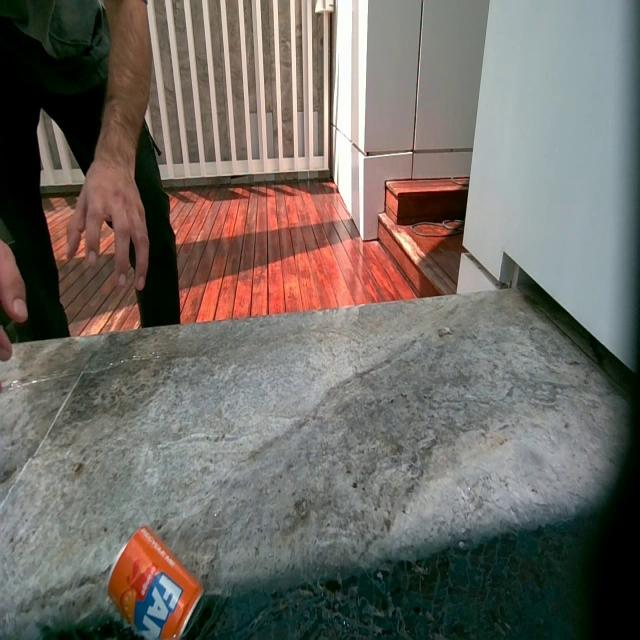Cans: (104, 525, 202, 638)
